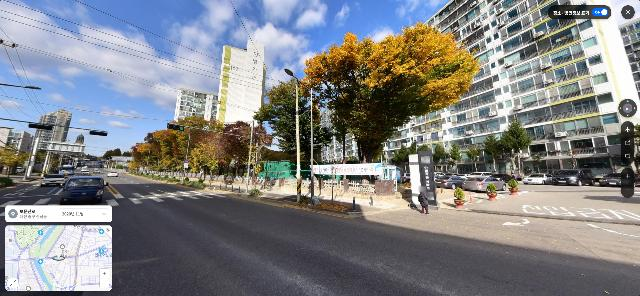ginkgo: (298, 23, 483, 183)
other: (128, 115, 275, 184), (253, 75, 330, 181), (215, 120, 275, 184), (499, 118, 533, 177), (480, 132, 506, 172)
